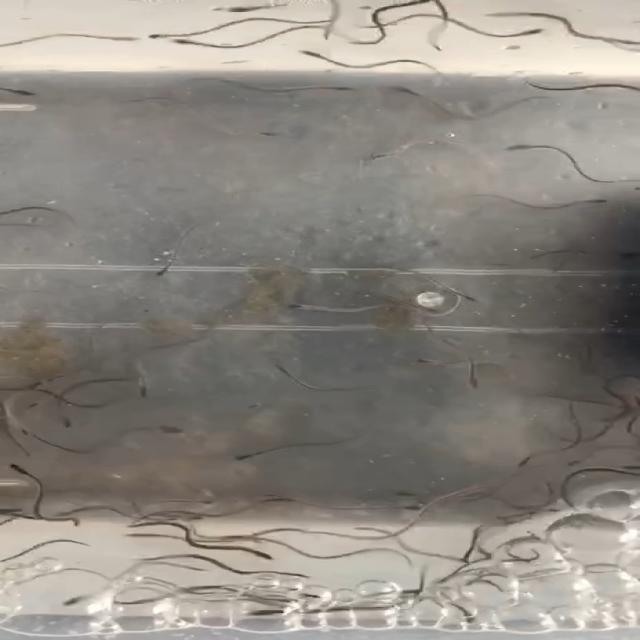active_glass_eel: (358, 142, 423, 164), (211, 0, 261, 19), (147, 255, 182, 282), (288, 48, 339, 64), (317, 81, 366, 97), (100, 29, 145, 46), (509, 23, 554, 40), (152, 32, 206, 46), (494, 142, 552, 155), (267, 564, 311, 580), (464, 368, 493, 392), (24, 392, 58, 412), (143, 26, 191, 40), (233, 130, 289, 142), (266, 360, 303, 378), (132, 377, 162, 399), (232, 546, 273, 562), (577, 193, 615, 210), (385, 82, 420, 100), (56, 591, 98, 606), (125, 527, 168, 541), (242, 606, 292, 618), (565, 449, 598, 467), (0, 85, 49, 97), (176, 493, 221, 506), (4, 464, 36, 482), (164, 513, 208, 526), (146, 424, 188, 437), (507, 456, 541, 472), (414, 354, 450, 369), (277, 300, 323, 311), (225, 449, 267, 461), (393, 500, 429, 514), (456, 602, 479, 622), (454, 288, 483, 303), (265, 496, 308, 506), (8, 422, 34, 437), (413, 301, 440, 314), (56, 414, 76, 428)
